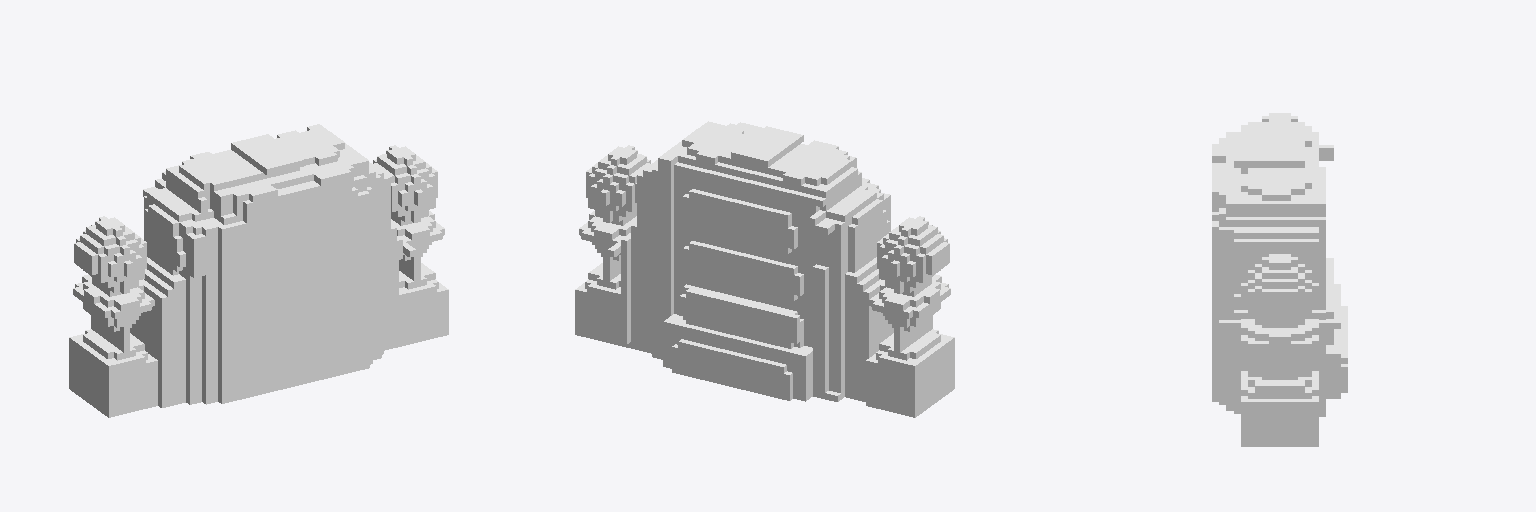
File: Dungeon5Brown.vox.obj
The picture shows the model from 3 angles: view 1: azimuth 30°, elevation 25°; view 2: azimuth 150°, elevation 25°; view 3: azimuth 270°, elevation 25°; orthographic projection.
Parts seen in each view (by area): view 1: object 1; view 2: object 1; view 3: object 1.
Boxes of the visible parts, <box> form: object 1: <box>69,124,448,417</box>; object 1: <box>575,121,954,417</box>; object 1: <box>1212,113,1347,446</box>.
Bounding box in the file's own units: 5.6 × 3.3 × 1.9.